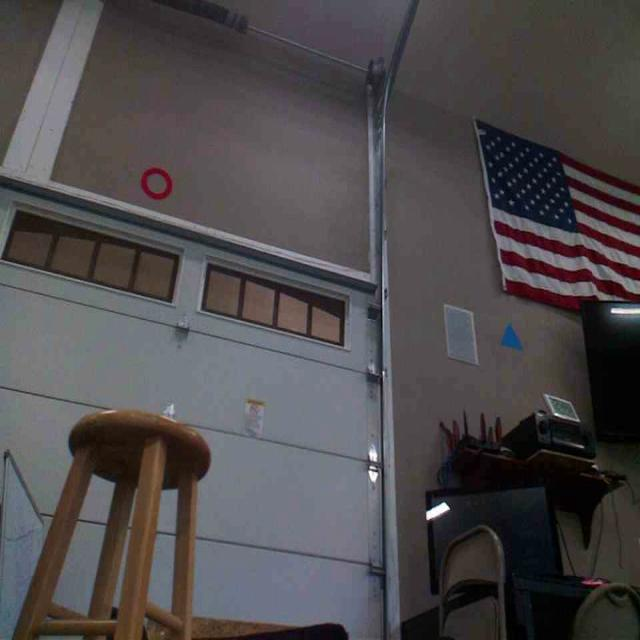ring_red: (140, 165, 172, 199)
triangle_blue: (498, 319, 524, 353)
